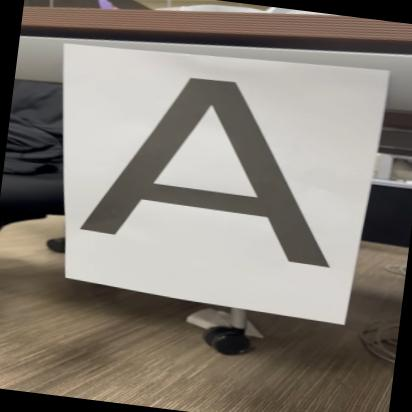seat: (64, 57, 370, 275)
